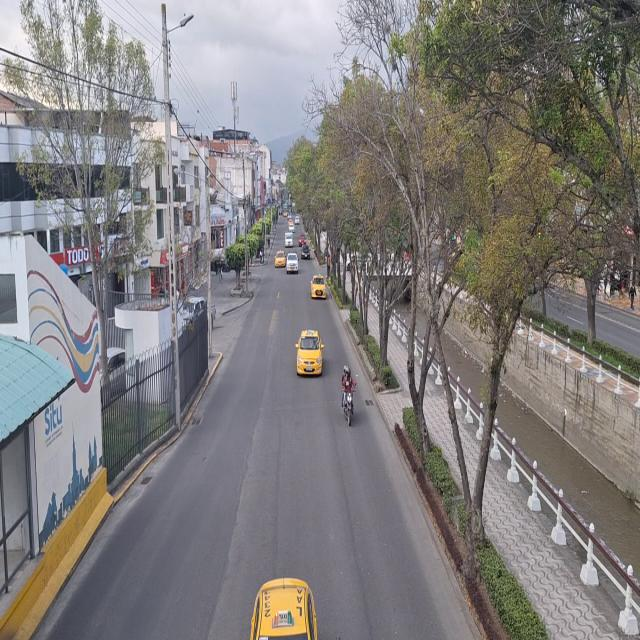CMT: (287, 251, 299, 275)
MOTORCYCLE: (345, 387, 353, 428)
SED: (297, 331, 323, 375), (312, 277, 326, 299)
